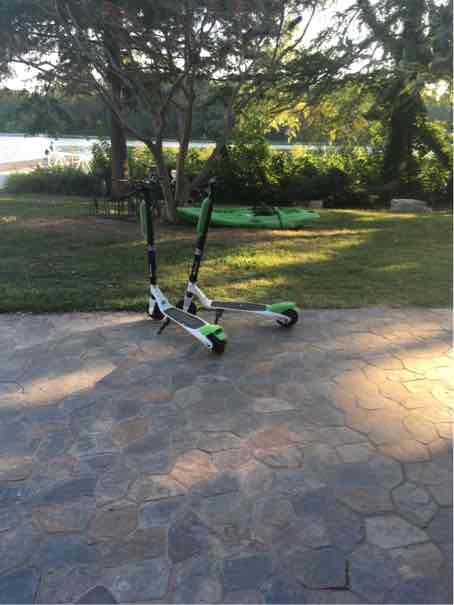scooter: (125, 179, 227, 360)
